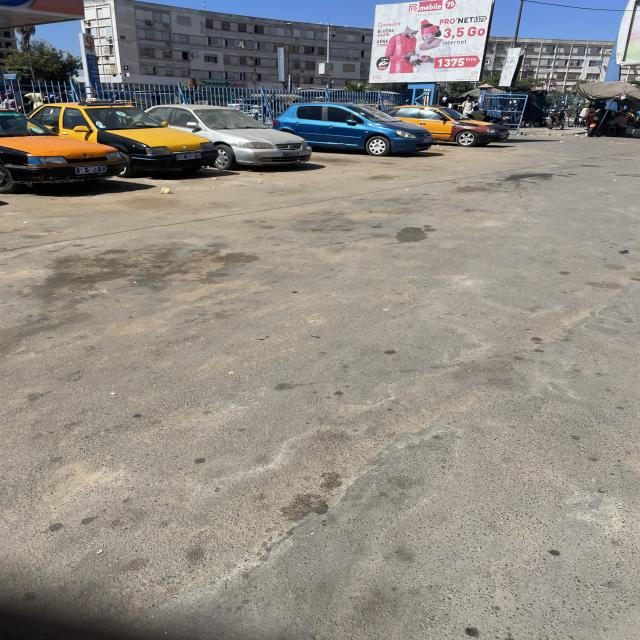moto: (548, 112, 564, 131)
particulier: (149, 105, 313, 171), (274, 104, 436, 156)
taxi: (31, 104, 218, 177), (1, 112, 128, 194), (388, 106, 511, 147)
